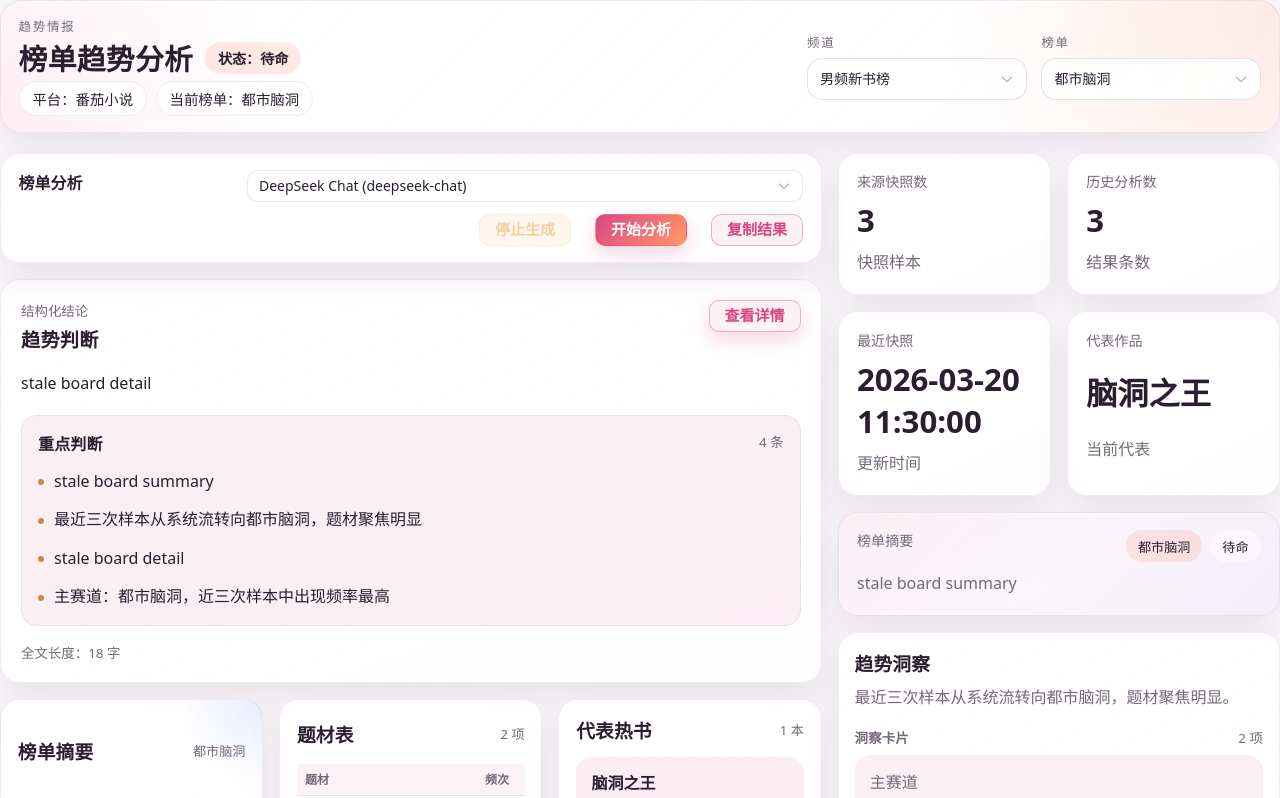
TrendView › rerunning trend hides stale stored summary while the new stream is still pending
The image size is (1280, 798).
Step 1. Click the button with test id "analysis-toolbar-rerun" → (641, 230), box [595, 214, 687, 246]
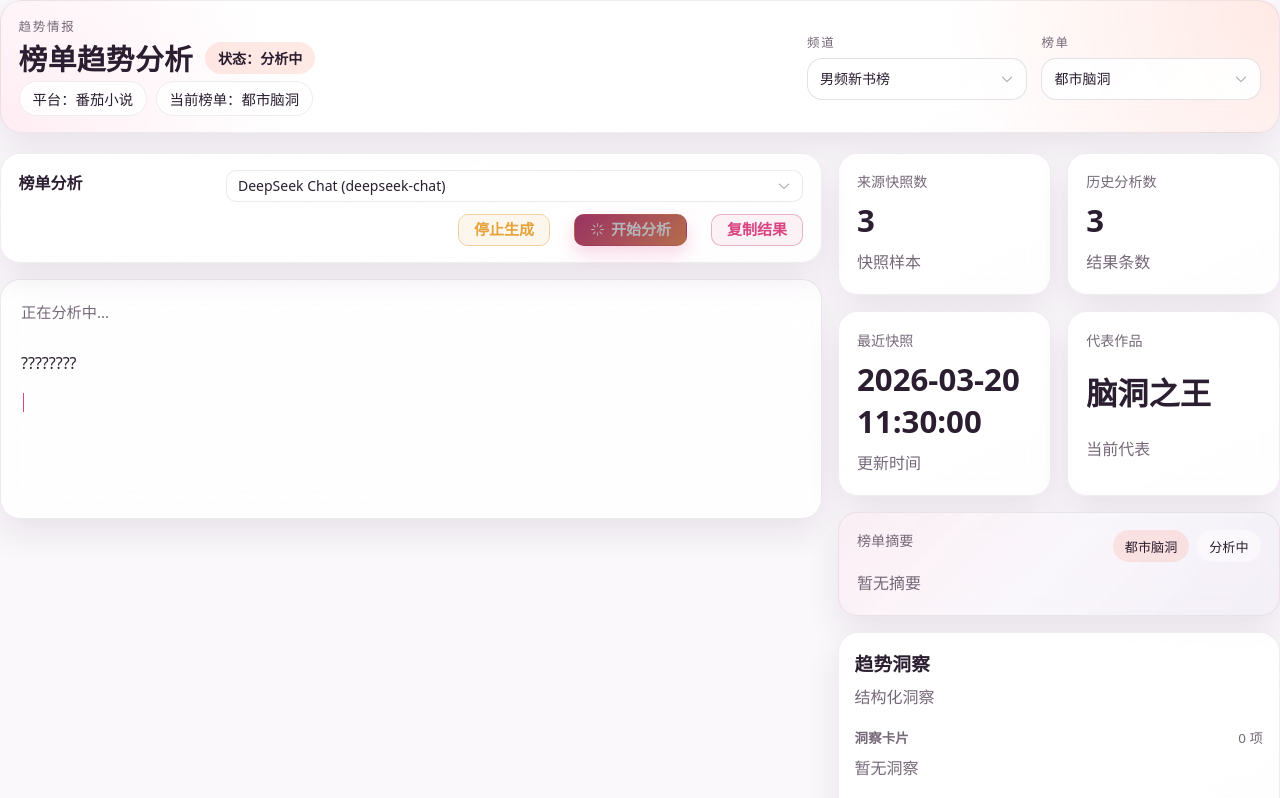
Result: the text "stale board summary" is gone
Result: the element with test id "analysis-result-card" shows "????????" at [21, 352, 77, 374]
